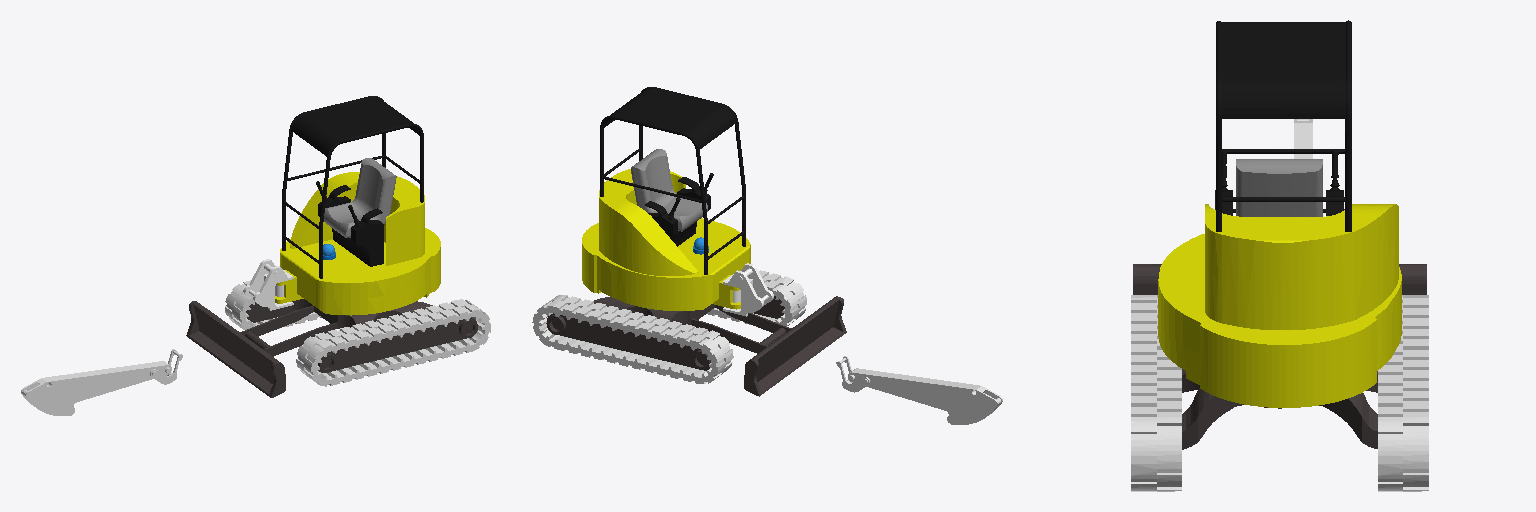
robot.urdf — excavator:
<?xml version="1.0" ?>
<!-- =================================================================================== -->
<!-- |    This document was autogenerated by xacro from excavator.urdf.xacro           | -->
<!-- |    EDITING THIS FILE BY HAND IS NOT RECOMMENDED                                 | -->
<!-- =================================================================================== -->
<robot name="excavator">
  <!-- Massless root -->
  <link name="base_link"/>
  <!-- BASE (heavier + realistic inertia) -->
  <link name="base">
    <inertial>
      <mass value="300.0"/>
      <origin xyz="0 0 0"/>
      <inertia ixx="80" ixy="0" ixz="0" iyy="80" iyz="0" izz="120"/>
    </inertial>
    <visual>
      <geometry>
        <mesh filename="package://excavator_description/meshes/base.dae"/>
      </geometry>
      <origin xyz="0 0 0"/>
    </visual>
    <collision>
      <geometry>
        <mesh filename="package://excavator_description/meshes/base.dae"/>
      </geometry>
    </collision>
  </link>
  <!-- BODY / TURRET -->
  <link name="body">
    <inertial>
      <mass value="350.0"/>
      <origin xyz="0 0 0"/>
      <inertia ixx="60" ixy="0" ixz="0" iyy="60" iyz="0" izz="70"/>
    </inertial>
    <visual>
      <geometry>
        <mesh filename="package://excavator_description/meshes/body.dae"/>
      </geometry>
      <origin xyz="0 0 0"/>
    </visual>
    <collision>
      <geometry>
        <mesh filename="package://excavator_description/meshes/body.dae"/>
      </geometry>
    </collision>
  </link>
  <!-- ARM1 (boom) -->
  <link name="boom">
    <inertial>
      <mass value="120.0"/>
      <origin xyz="0 0 0"/>
      <inertia ixx="12" ixy="0" ixz="0" iyy="24" iyz="0" izz="22"/>
    </inertial>
    <visual>
      <geometry>
        <mesh filename="package://excavator_description/meshes/boom.dae"/>
      </geometry>
      <origin xyz="0 0 0"/>
    </visual>
    <collision>
      <geometry>
        <mesh filename="package://excavator_description/meshes/boom.dae"/>
      </geometry>
    </collision>
  </link>
  <!-- ARM2 (stick) -->
  <link name="stick">
    <inertial>
      <mass value="80.0"/>
      <origin xyz="0 0 0"/>
      <inertia ixx="8" ixy="0" ixz="0" iyy="16" iyz="0" izz="14"/>
    </inertial>
    <visual>
      <geometry>
        <mesh filename="package://excavator_description/meshes/stick.dae"/>
      </geometry>
      <origin xyz="0 0 0"/>
    </visual>
    <collision>
      <geometry>
        <mesh filename="package://excavator_description/meshes/stick.dae"/>
      </geometry>
    </collision>
  </link>
  <!-- SHOVEL (bucket) -->
  <link name="bucket">
    <inertial>
      <mass value="60.0"/>
      <origin xyz="0 0 0"/>
      <inertia ixx="4" ixy="0" ixz="0" iyy="6" iyz="0" izz="6"/>
    </inertial>
    <visual>
      <geometry>
        <mesh filename="package://excavator_description/meshes/bucket.dae"/>
      </geometry>
      <origin rpy="0 3.14159 0" xyz="0 0 0"/>
    </visual>
    <collision>
      <geometry>
        <mesh filename="package://excavator_description/meshes/bucket.dae"/>
      </geometry>
    </collision>
  </link>
  <!-- Sensor links (IMU and 3D LiDAR on body/cab) - visible physical sensor geometry -->
  <link name="sensor_imu_link">
    <inertial>
      <mass value="0.02"/>
      <origin xyz="0 0 0"/>
      <inertia ixx="1e-5" ixy="0" ixz="0" iyy="1e-5" iyz="0" izz="1e-5"/>
    </inertial>
    <visual name="imu_visual">
      <geometry>
        <box size="0.12 0.10 0.03"/>
      </geometry>
      <origin xyz="0 0 0"/>
      <material name="imu_material">
        <color rgba="0.9 0.45 0.1 1"/>
      </material>
    </visual>
    <collision name="imu_collision">
      <geometry>
        <box size="0.12 0.10 0.03"/>
      </geometry>
      <origin xyz="0 0 0"/>
    </collision>
  </link>
  <link name="sensor_lidar_link">
    <inertial>
      <mass value="0.05"/>
      <origin xyz="0 0 0"/>
      <inertia ixx="1e-4" ixy="0" ixz="0" iyy="1e-4" iyz="0" izz="1e-4"/>
    </inertial>
    <visual name="lidar_base">
      <geometry>
        <cylinder length="0.04" radius="0.08"/>
      </geometry>
      <origin rpy="0 0 3.14159" xyz="0 0 0"/>
      <material name="lidar_base_material">
        <color rgba="0.1 0.5 0.85 1"/>
      </material>
    </visual>
    <visual name="lidar_dome">
      <geometry>
        <sphere radius="0.07"/>
      </geometry>
      <origin rpy="0 0 0" xyz="0 0 0.05"/>
      <material name="lidar_dome_material">
        <color rgba="0.2 0.6 0.9 0.95"/>
      </material>
    </visual>
    <collision name="lidar_collision">
      <geometry>
        <cylinder length="0.12" radius="0.08"/>
      </geometry>
      <origin rpy="0 0 0" xyz="0 0 0.04"/>
    </collision>
  </link>
  <!-- Fixed joint between base_link (root) and base -->
  <joint name="base_to_base_link" type="fixed">
    <parent link="base_link"/>
    <child link="base"/>
    <origin rpy="0 0 3.14159" xyz="0 0 0"/>
  </joint>
  <!-- Joints with damping/friction and stronger limits -->
  <!-- Revolute with wide limits (not continuous): MoveIt + JointTrajectoryController validate the
       first waypoint against /joint_states; continuous joints often report large accumulated
       angles while planned trajectories use a different branch → instant "start deviates" abort. -->
  <joint name="body_rotation" type="revolute">
    <parent link="base"/>
    <child link="body"/>
    <axis xyz="0 0 1"/>
    <origin xyz="0.0 0.0 0.6"/>
    <dynamics damping="8.0" friction="0.5"/>
    <limit effort="4000.0" lower="-12.566370614359172" upper="12.566370614359172" velocity="1.5"/>
  </joint>
  <joint name="boom_rotation" type="revolute">
    <parent link="body"/>
    <child link="boom"/>
    <axis xyz="0 1 0"/>
    <origin xyz="0.933 -0.134 0.302"/>
    <dynamics damping="10.0" friction="1.5"/>
    <limit effort="4000.0" lower="-1.40" upper="0.20" velocity="1.0"/>
  </joint>
  <joint name="stick_rotation" type="revolute">
    <parent link="boom"/>
    <child link="stick"/>
    <axis xyz="0 1 0"/>
    <origin xyz="2.586 0 -0.625"/>
    <dynamics damping="8.0" friction="1.2"/>
    <limit effort="3500.0" lower="-2.428" upper="0.20" velocity="1.0"/>
  </joint>
  <joint name="bucket_rotation" type="revolute">
    <parent link="stick"/>
    <child link="bucket"/>
    <axis xyz="0 1 0"/>
    <origin xyz="-1.362 0 -0.154"/>
    <dynamics damping="6.0" friction="0.8"/>
    <!-- Upper relaxed toward 0: gz/joint_states often ~-0.01 rad; tight upper=-0.357 made CheckStartStateBounds fail. -->
    <limit effort="3000.0" lower="-2.00" upper="2.00" velocity="1.2"/>
  </joint>
  <!-- Body -> sensor links (fixed, above cab) -->
  <joint name="body_to_imu" type="fixed">
    <parent link="body"/>
    <child link="sensor_imu_link"/>
    <origin rpy="0 0 0" xyz="0.3 0 0.25"/>
  </joint>
  <joint name="body_to_lidar" type="fixed">
    <parent link="body"/>
    <child link="sensor_lidar_link"/>
    <origin rpy="0 0 0" xyz="0.35 0 0.4"/>
  </joint>
  <ros2_control name="GazeboSimSystem" type="system">
    <hardware>
      <plugin>gz_ros2_control/GazeboSimSystem</plugin>
    </hardware>
    <joint name="body_rotation">
      <command_interface name="position"/>
      <state_interface name="position">
        <param name="initial_value">0.0</param>
      </state_interface>
      <state_interface name="velocity"/>
    </joint>
    <joint name="boom_rotation">
      <command_interface name="position"/>
      <state_interface name="position">
        <param name="initial_value">-0.70</param>
      </state_interface>
      <state_interface name="velocity"/>
    </joint>
    <joint name="stick_rotation">
      <command_interface name="position"/>
      <state_interface name="position">
        <param name="initial_value">-1.26</param>
      </state_interface>
      <state_interface name="velocity"/>
    </joint>
    <joint name="bucket_rotation">
      <command_interface name="position"/>
      <state_interface name="position">
        <param name="initial_value">-1.12</param>
      </state_interface>
      <state_interface name="velocity"/>
    </joint>
  </ros2_control>
  <gazebo>
    <plugin filename="libgz_ros2_control-system.so" name="gz_ros2_control::GazeboSimROS2ControlPlugin">
      <parameters>/home/ahmed/Devel/auwo_ws/install/excavator_description/share/excavator_description/config/controllers.yaml</parameters>
    </plugin>
  </gazebo>
  <!-- IMU sensor (Gazebo Harmonic); orange so visible in sim -->
  <gazebo reference="sensor_imu_link">
    <material>Gazebo/Orange</material>
    <sensor name="imu_sensor" type="imu">
      <always_on>true</always_on>
      <update_rate>100</update_rate>
      <visualize>true</visualize>
      <topic>/excavator/imu</topic>
      <imu>
        <angular_velocity>
          <x>
            <noise type="gaussian">
              <mean>0.0</mean>
              <stddev>0.0002</stddev>
            </noise>
          </x>
          <y>
            <noise type="gaussian">
              <mean>0.0</mean>
              <stddev>0.0002</stddev>
            </noise>
          </y>
          <z>
            <noise type="gaussian">
              <mean>0.0</mean>
              <stddev>0.0002</stddev>
            </noise>
          </z>
        </angular_velocity>
        <linear_acceleration>
          <x>
            <noise type="gaussian">
              <mean>0.0</mean>
              <stddev>0.017</stddev>
            </noise>
          </x>
          <y>
            <noise type="gaussian">
              <mean>0.0</mean>
              <stddev>0.017</stddev>
            </noise>
          </y>
          <z>
            <noise type="gaussian">
              <mean>0.0</mean>
              <stddev>0.017</stddev>
            </noise>
          </z>
        </linear_acceleration>
      </imu>
    </sensor>
  </gazebo>
  <!-- 3D LiDAR sensor (gpu_lidar, Gazebo Harmonic); blue so visible in sim -->
  <gazebo reference="sensor_lidar_link">
    <material>Gazebo/Blue</material>
    <sensor name="lidar_sensor" type="gpu_lidar">
      <always_on>true</always_on>
      <update_rate>10</update_rate>
      <visualize>true</visualize>
      <topic>/excavator/points</topic>
      <lidar>
        <scan>
          <horizontal>
            <samples>360</samples>
            <resolution>1.0</resolution>
            <min_angle>-3.14159265</min_angle>
            <max_angle>3.14159265</max_angle>
          </horizontal>
          <vertical>
            <samples>32</samples>
            <resolution>1.0</resolution>
            <min_angle>-0.261799</min_angle>
            <max_angle>0.261799</max_angle>
          </vertical>
        </scan>
        <range>
          <min>0.2</min>
          <max>30.0</max>
          <resolution>0.01</resolution>
        </range>
      </lidar>
    </sensor>
  </gazebo>
</robot>

--- Facts derived from the render (not from the file) ---
Views: 3 orthographic renders of the robot side by side, from view 1: azimuth 30°, elevation 25°; view 2: azimuth 150°, elevation 25°; view 3: azimuth 270°, elevation 25°.
Model excavator with 8 links and 7 joints (4 revolute, 3 fixed), rooted at base_link, posed every joint at zero.
Links seen in each view (by area): view 1: body, base, stick; view 2: body, base, stick; view 3: body, base, stick.
Boxes of the visible links, <box> form: body: <box>243,96,440,315</box>; base: <box>186,280,490,397</box>; stick: <box>21,349,182,415</box>; body: <box>582,87,773,316</box>; base: <box>532,270,846,396</box>; stick: <box>836,356,1002,424</box>; body: <box>1158,20,1401,407</box>; base: <box>1131,264,1428,491</box>; stick: <box>1294,119,1312,158</box>.
Bounding box of the posed robot: 4.83 × 1.73 × 2.54 m (x, y, z).
3 mesh visuals loaded from 5 distinct referenced files (3 Collada DAE); not drawn: 2 (reference not matched to a file when rendering).
